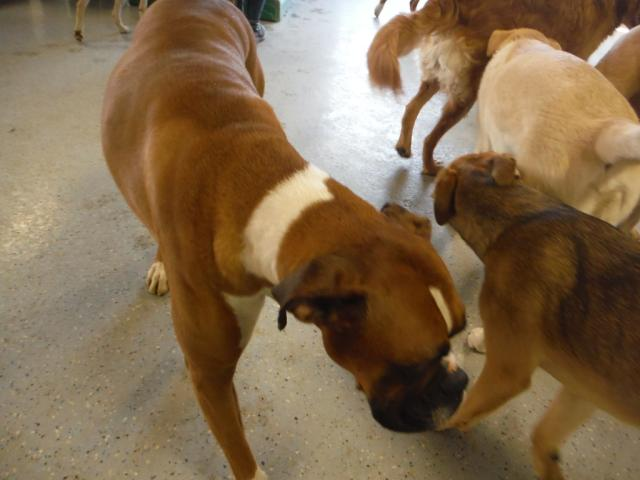Dog: (101, 0, 471, 480), (432, 150, 640, 480), (466, 27, 640, 354), (362, 0, 640, 174), (71, 0, 147, 43)
